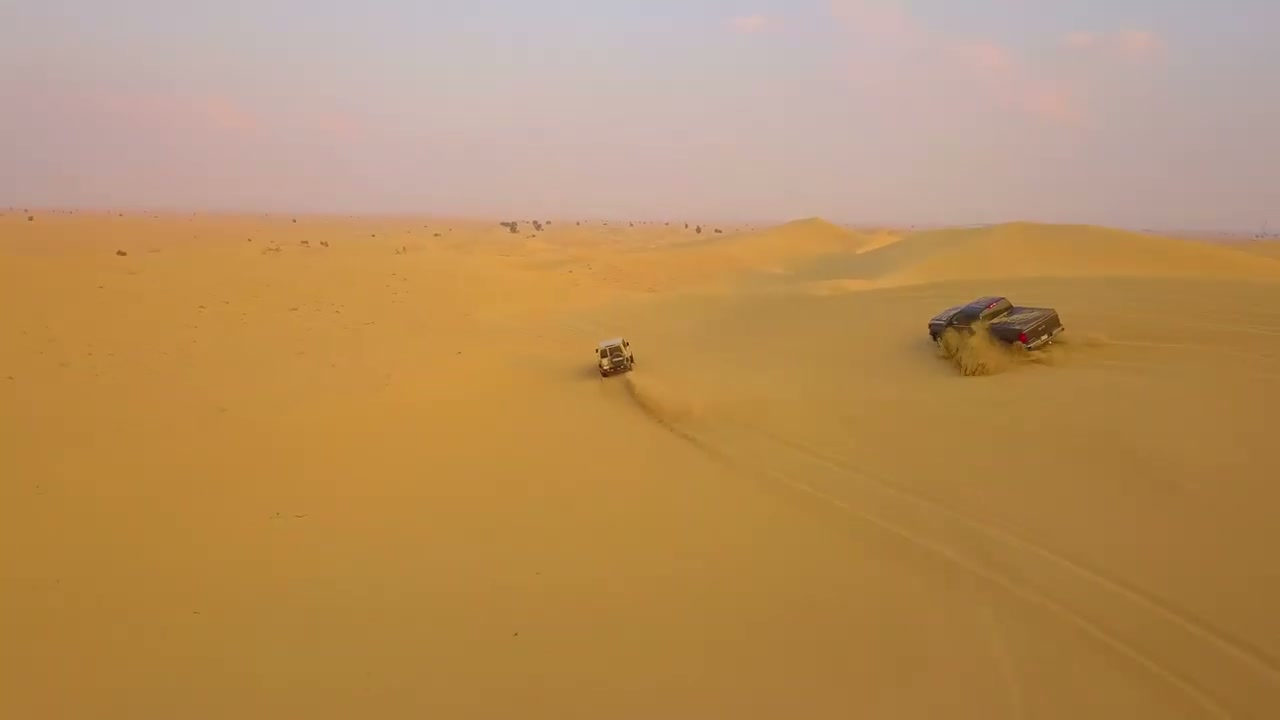vehicle_track: (640, 403, 1279, 717)
